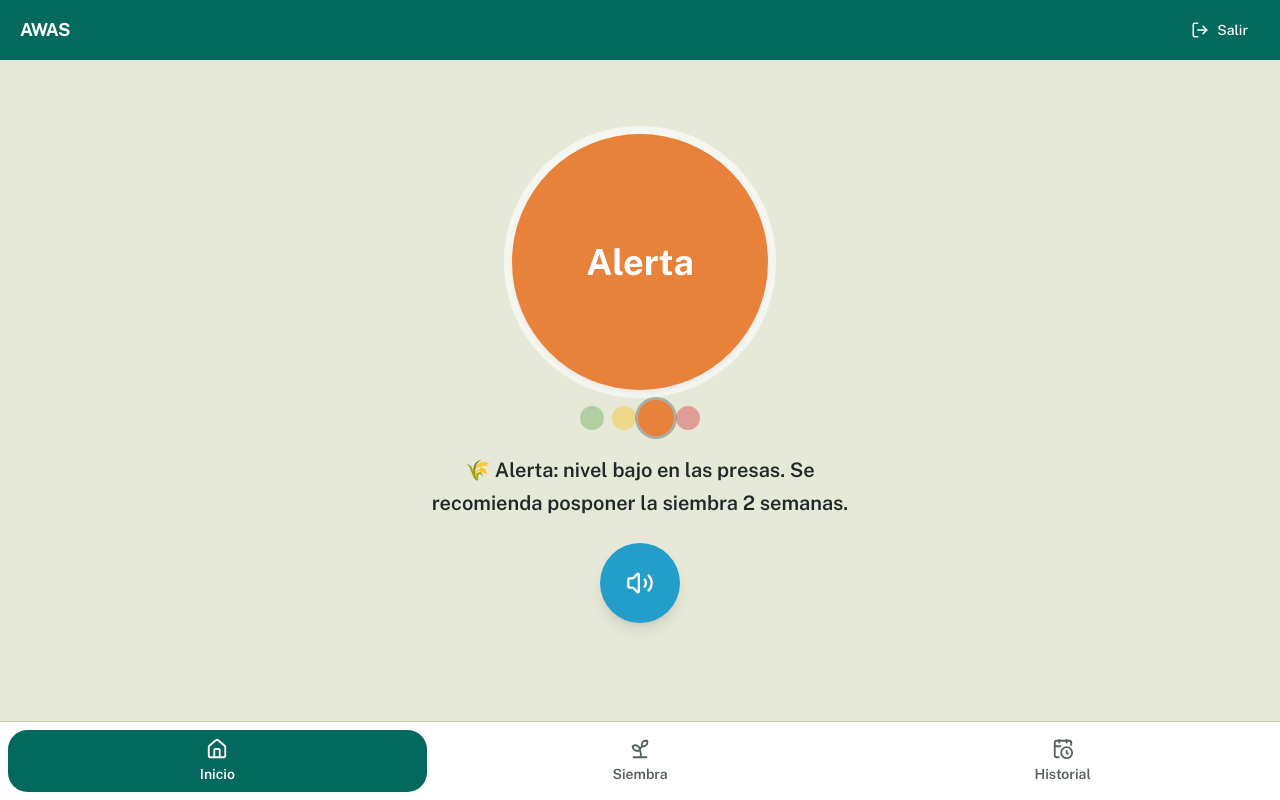
Test: AgricultorDashboard › Historial: dibuja un punto por cada semana de historialSemanas
The image size is (1280, 800).
Expected: the text "🌾 Alerta: nivel bajo en las presas. Se recomienda posponer la siembra 2 semanas." is shown, [432,458,848,514]
Click the button "Historial": (1063, 761) [853,730,1272,792]
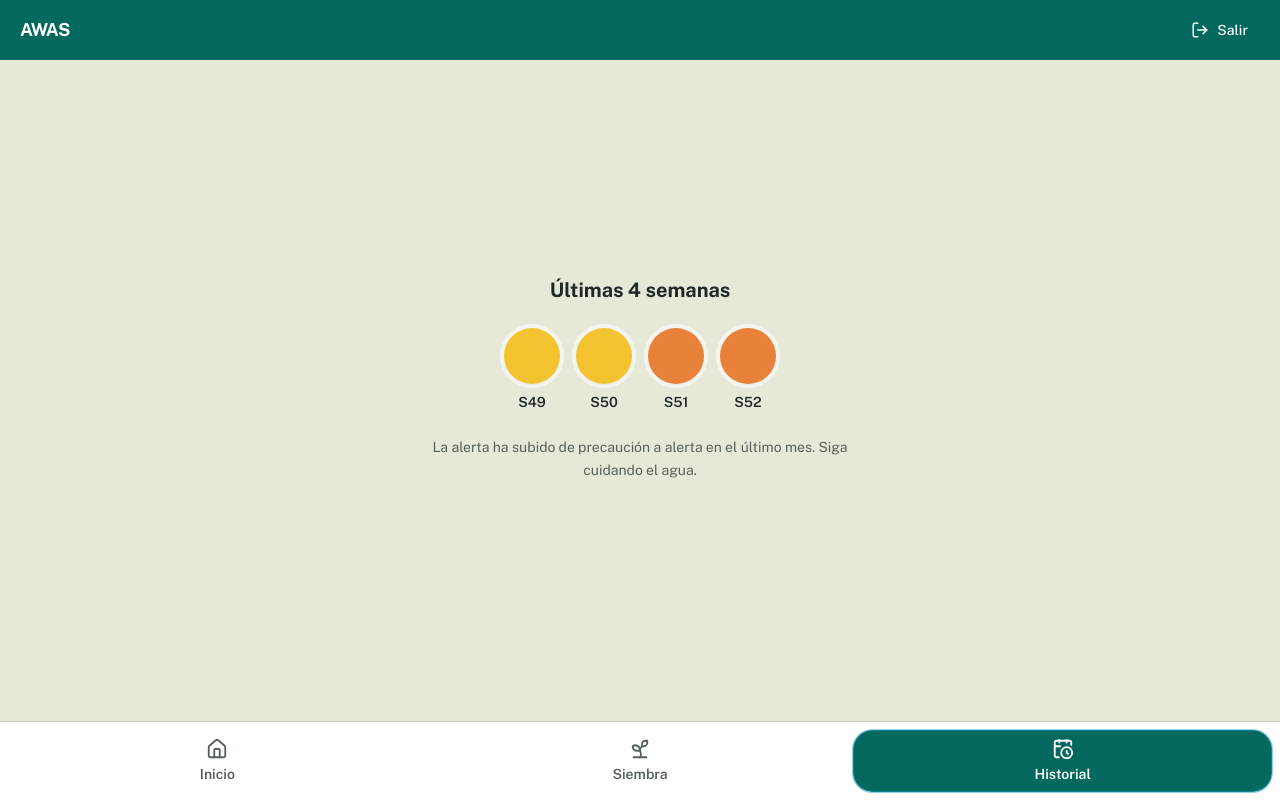
Result: the number of elements named "Semana 49: Precaución" is 4 at [504,328,560,384]; [576,328,632,384]; [648,328,704,384]; [720,328,776,384]
